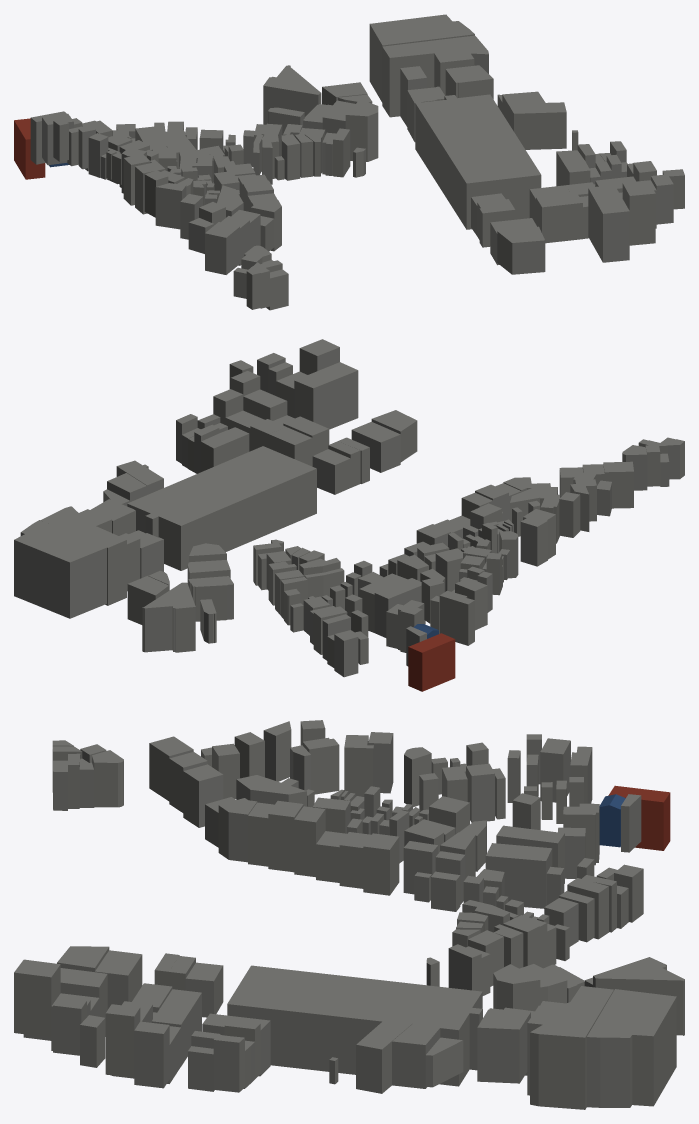
The model's file is near-17-109443-59475.260106a5.glb.
The picture shows the model from 3 angles, top to bottom: view 1: azimuth 30°, elevation 25°; view 2: azimuth 150°, elevation 25°; view 3: azimuth 270°, elevation 25°; orthographic projection. The views are drawn at different scales.
Bounding box in the file's own units: 302 × 74.69 × 321.
